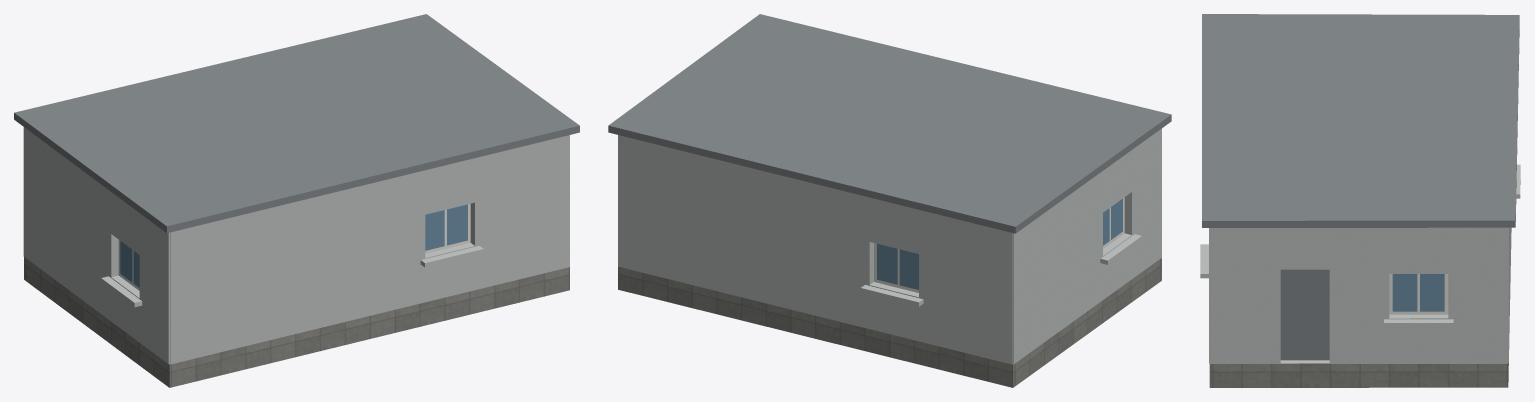
3 views of the same model, side by side, from view 1: azimuth 30°, elevation 25°; view 2: azimuth 150°, elevation 25°; view 3: azimuth 270°, elevation 25° (orthographic). The views are drawn at different scales.
Parts seen in each view (by area): view 1: shed2__wall, shed2__greyroof, shed2__stone, shed2__sideglass, shed2__frame; view 2: shed2__wall, shed2__greyroof, shed2__stone, shed2__sideglass, shed2__frame; view 3: shed2__greyroof, shed2__wall, shed2__stone, shed2__sideglass, shed2__frame.
Part boxes in pixels (bbox=[...]): shed2__wall: bbox=[23, 127, 569, 364]; shed2__greyroof: bbox=[14, 14, 579, 233]; shed2__stone: bbox=[24, 257, 569, 387]; shed2__sideglass: bbox=[120, 204, 467, 287]; shed2__frame: bbox=[118, 203, 470, 290]; shed2__wall: bbox=[618, 128, 1161, 364]; shed2__greyroof: bbox=[608, 14, 1171, 233]; shed2__stone: bbox=[618, 258, 1161, 387]; shed2__sideglass: bbox=[877, 198, 1122, 289]; shed2__frame: bbox=[874, 197, 1124, 292]; shed2__greyroof: bbox=[1202, 14, 1519, 360]; shed2__wall: bbox=[1200, 164, 1520, 363]; shed2__stone: bbox=[1209, 363, 1508, 387]; shed2__sideglass: bbox=[1392, 274, 1444, 311]; shed2__frame: bbox=[1389, 274, 1448, 314].
Size of the model in its own units: 10.02 by 3.82 by 6.52.
Materials: 5 (2 with a texture image).
